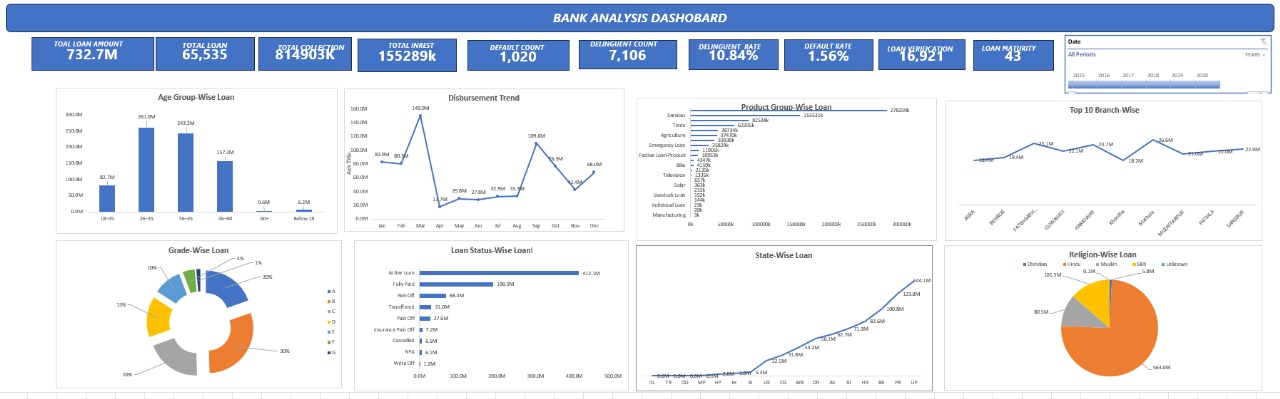

What the dashboard file says about the page in this screenshot:
{"tool":"tableau","page":{"name":"Dashboard1","canvas":[1000,1000],"units":"permille","ordinal":0},"visuals":[{"type":"title","box":[5.3,11.2,895.7,88.6]},{"type":"filter","title":"Total Interest","param":"[federated.0l23b24156va1h11dt08z0hid11w].[yr:Date:ok]","box":[901,11.2,93.7,270.9]},{"type":"worksheet","title":"Total loan amount","mark":"Automatic","box":[5.9,101.1,92,172.3]},{"type":"worksheet","title":"Total Interest","mark":"Automatic","box":[97.9,101.1,90.2,172.3]},{"type":"worksheet","title":"Total loans","mark":"Automatic","box":[188.1,101.1,98.4,172.3]},{"type":"worksheet","title":"Total Collection","mark":"Automatic","box":[286.5,101.1,97.8,172.3]},{"type":"worksheet","title":" Delinquent Clients Count","mark":"Automatic","box":[384.3,101.1,88.5,172.3]},{"type":"worksheet","title":"Loan Maturity","mark":"Automatic","box":[472.8,101.1,80.9,172.3]},{"type":"worksheet","title":"Default Loan Count","mark":"Automatic","box":[553.6,101.1,88.4,172.3]},{"type":"worksheet","title":"Delinquent Loan Rate","mark":"Automatic","box":[642.1,101.1,88.4,172.3]},{"type":"worksheet","title":"Default Loan Rate1","mark":"Automatic","box":[730.5,101.1,88.4,172.3]},{"type":"worksheet","title":"Not Verified Loans","mark":"Text","box":[819,101.1,81.4,172.3]},{"type":"worksheet","title":"State Wise Loans","mark":"Automatic","box":[8.8,280.9,176.3,456.9]},{"type":"worksheet","title":"Branch Wise Revenue","mark":"Automatic","rows":["Branch Name"],"box":[188.6,280.9,208,455.7]},{"type":"worksheet","title":"Grade Wise Loan","mark":"Automatic","rows":["Loan Amount"],"cols":["Grade"],"box":[606.3,282.2,195.7,451.9]},{"type":"worksheet","title":"Religion wise Loan","mark":"Pie","box":[399.5,283.4,203.3,451.9]},{"type":"worksheet","title":"Age wise loan","mark":"Pie","box":[806.1,283.4,186.9,448.2]},{"type":"worksheet","title":"Product Group Wise Loan","mark":"Line","rows":["Account ID"],"cols":["Purpose Category"],"box":[684.2,739.1,308.7,241]},{"type":"worksheet","title":"Disbursment Trend","mark":"Automatic","rows":["Loan Amount"],"cols":["Disbursement Date"],"box":[8.8,740.3,345.1,242.2]},{"type":"worksheet","title":"Status wise loan","mark":"Automatic","rows":["Loan Amount"],"cols":["Loan Status"],"box":[356.8,741.6,325.7,239.7]}]}

Visuals, with their boxes on the dashboard's canvas, which has no fixed pixel size, in thousandths of its width and height (x1, y1, x2, y2). These are canvas units, not pixel positions in the 1280x399 screenshot, which may show the page scaled, cropped or inside an application window:
title: x1=5 y1=11 x2=901 y2=100
"Total Interest" filter: x1=901 y1=11 x2=995 y2=282
"Total loan amount" worksheet: x1=6 y1=101 x2=98 y2=273
"Total Interest" worksheet: x1=98 y1=101 x2=188 y2=273
"Total loans" worksheet: x1=188 y1=101 x2=286 y2=273
"Total Collection" worksheet: x1=286 y1=101 x2=384 y2=273
" Delinquent Clients Count" worksheet: x1=384 y1=101 x2=473 y2=273
"Loan Maturity" worksheet: x1=473 y1=101 x2=554 y2=273
"Default Loan Count" worksheet: x1=554 y1=101 x2=642 y2=273
"Delinquent Loan Rate" worksheet: x1=642 y1=101 x2=730 y2=273
"Default Loan Rate1" worksheet: x1=730 y1=101 x2=819 y2=273
"Not Verified Loans" worksheet (Text marks): x1=819 y1=101 x2=900 y2=273
"State Wise Loans" worksheet: x1=9 y1=281 x2=185 y2=738
"Branch Wise Revenue" worksheet: x1=189 y1=281 x2=397 y2=737
"Grade Wise Loan" worksheet: x1=606 y1=282 x2=802 y2=734
"Religion wise Loan" worksheet (Pie marks): x1=400 y1=283 x2=603 y2=735
"Age wise loan" worksheet (Pie marks): x1=806 y1=283 x2=993 y2=732
"Product Group Wise Loan" worksheet (Line marks): x1=684 y1=739 x2=993 y2=980
"Disbursment Trend" worksheet: x1=9 y1=740 x2=354 y2=982
"Status wise loan" worksheet: x1=357 y1=742 x2=682 y2=981
